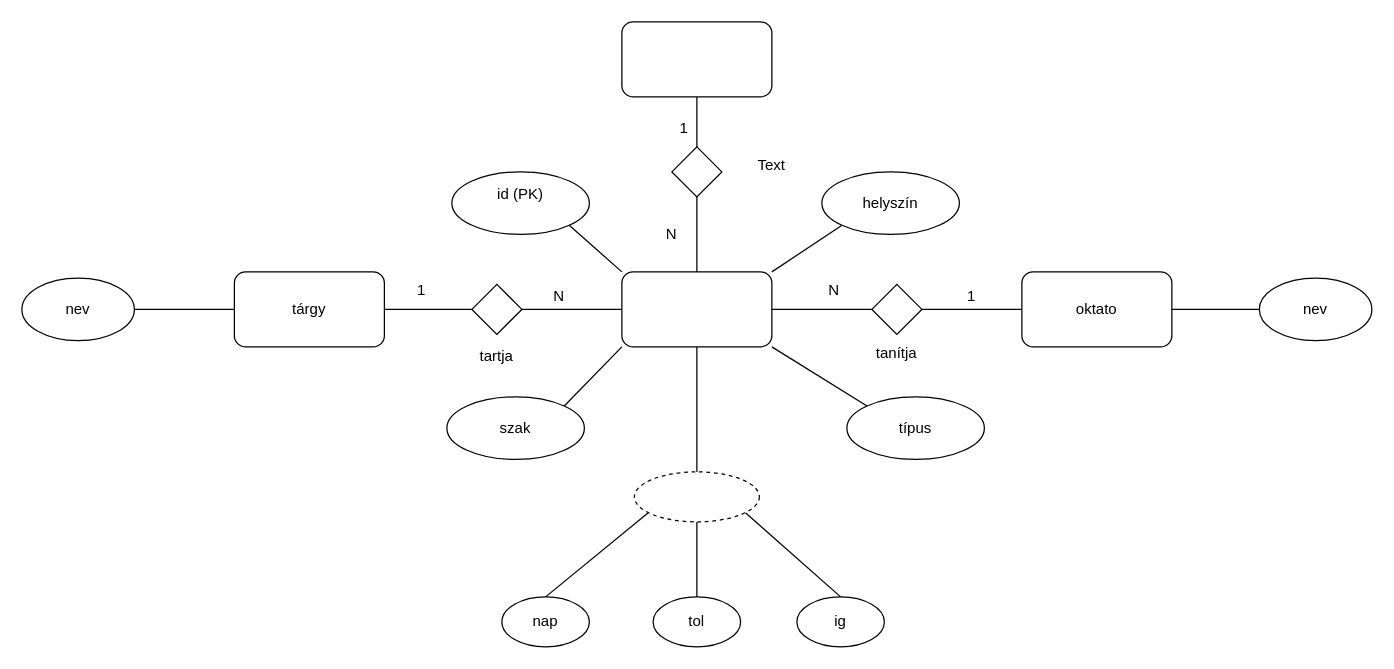
Some shapes in this 1394 by 669 pixel diagram are drawn without their labels. The shapes that lost their labels are listed below. From the top down, each one's centre as x and y in pixels, then its label:
At [696,59]: "ILQ2OX_orarend".
At [696,309]: "Ora".
At [696,496]: "időpont".
